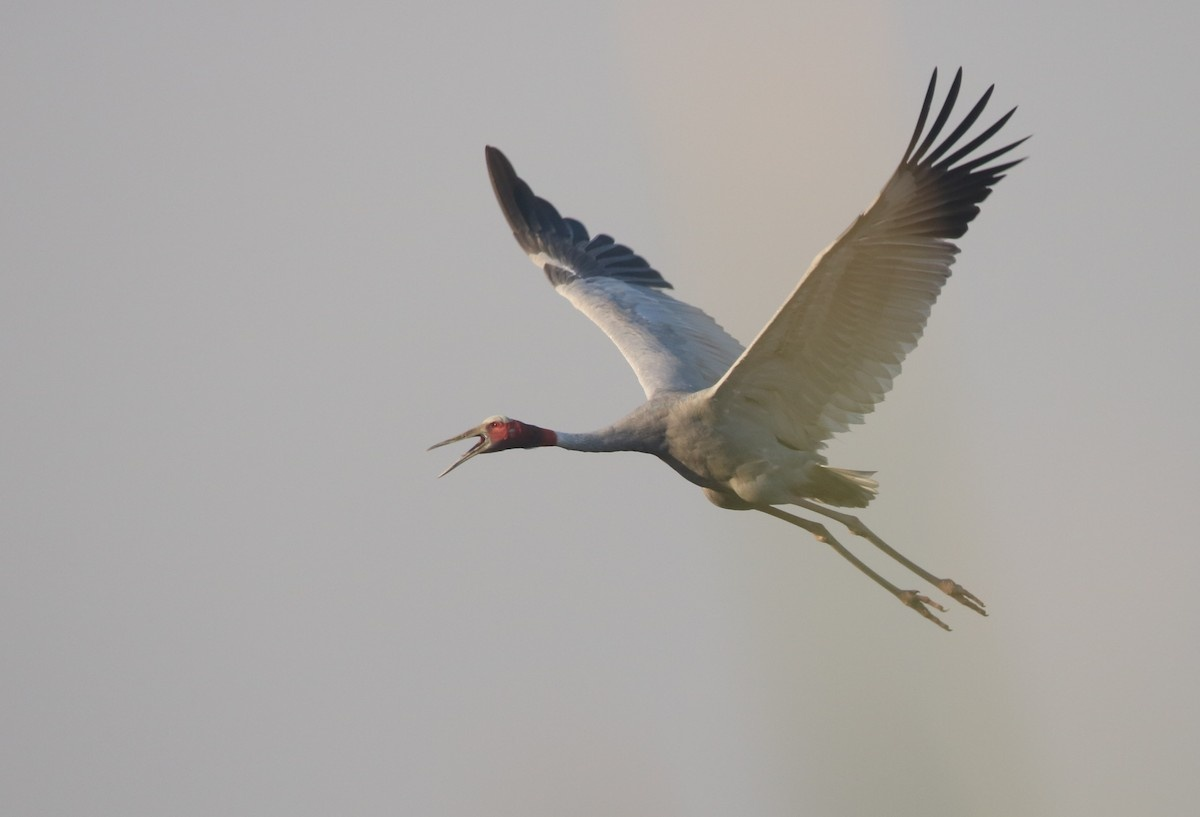crane: (426, 101, 1112, 651)
